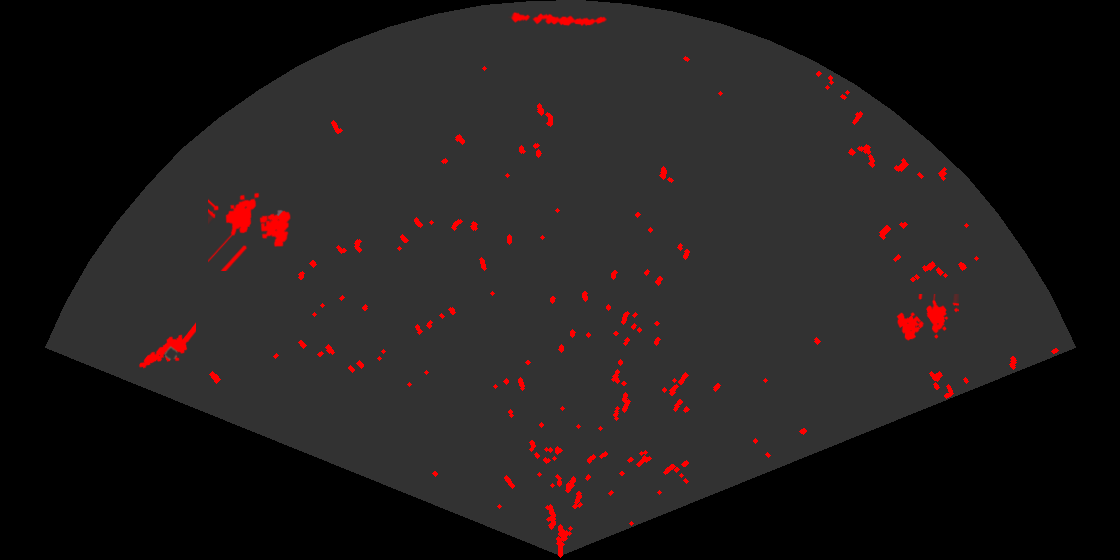cage: (208, 191, 292, 271), (895, 294, 959, 342)
chain: (508, 10, 607, 28)
frogman: (137, 322, 196, 370)
